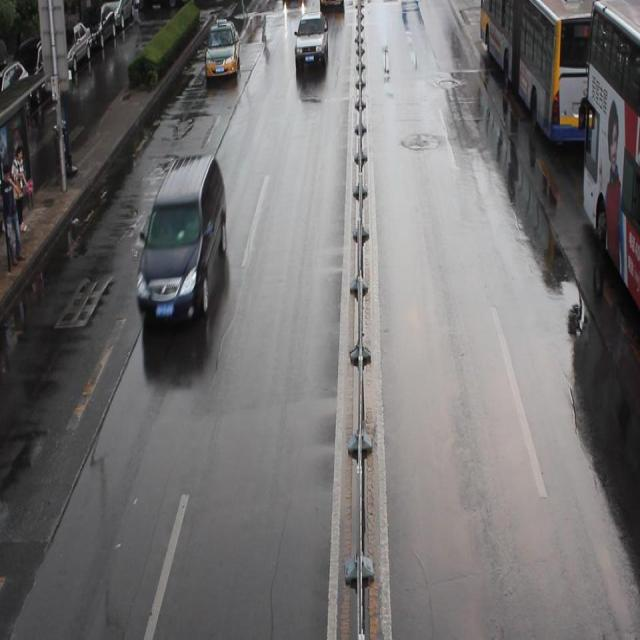car: (204, 17, 238, 77), (293, 14, 328, 69), (320, 1, 344, 12)
truck: (136, 155, 228, 325)
van: (580, 1, 640, 311), (479, 1, 610, 141)
